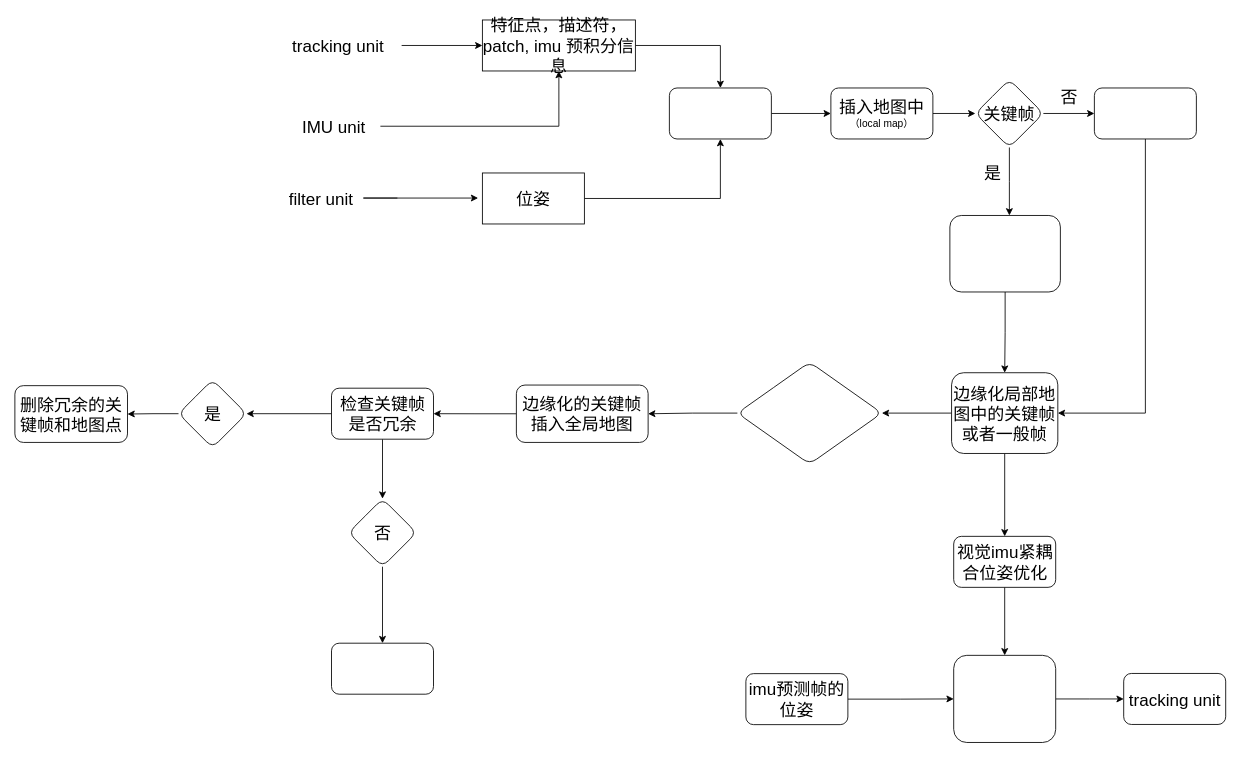
Image size: 1241x757. Some labels were removed from this diagram. Here are the shapes that lost their labels. From the top down, the centre of each, then its label:
At (720,113): "图像帧".
At (1145,113): "更新地图点位姿".
At (1004,253): "更新地图点位姿，增加新的地图点".
At (809,412): "边缘化的是关键帧".
At (382,668): "闭环检测".
At (1004,698): "输出可以在当前帧下可以投影的地图点".
